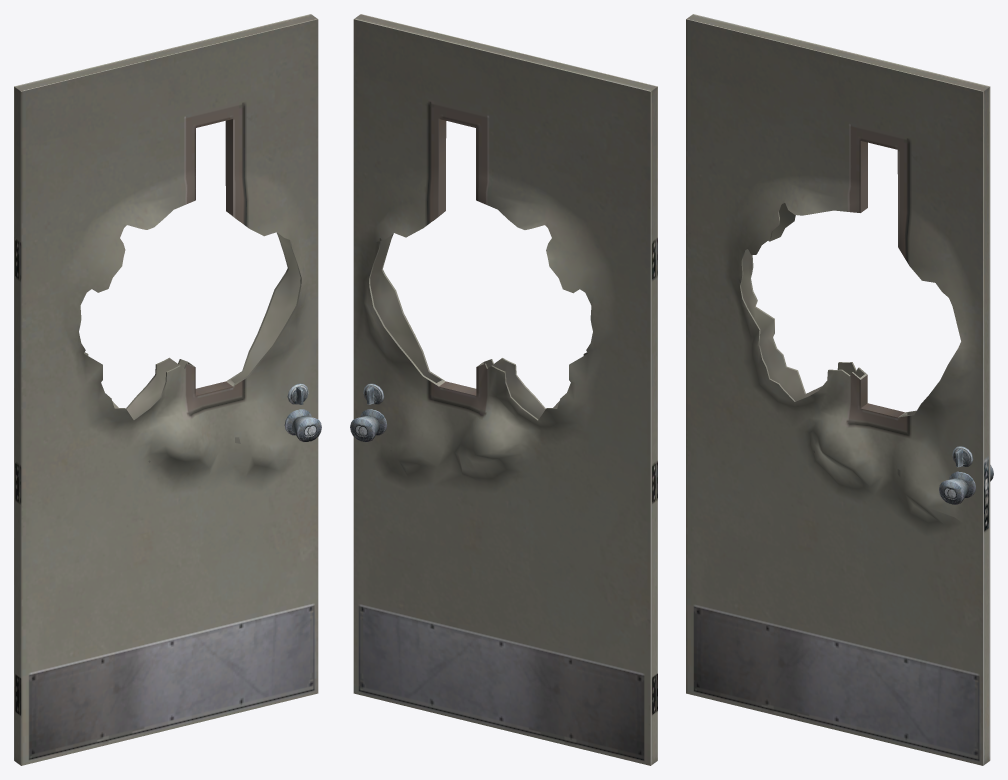
Rendered from doormainmetalwindowsmall01_dm06.glb.
The picture shows the model from 3 angles, left to right: view 1: azimuth 30°, elevation 25°; view 2: azimuth 150°, elevation 25°; view 3: azimuth 330°, elevation 25°; orthographic projection.
Visible parts, largest first — view 1: doormainmetalwindowsmall01_dm06; view 2: doormainmetalwindowsmall01_dm06; view 3: doormainmetalwindowsmall01_dm06.
Part boxes in pixels (bbox=[...]): doormainmetalwindowsmall01_dm06: bbox=[14, 14, 321, 765]; doormainmetalwindowsmall01_dm06: bbox=[350, 14, 657, 765]; doormainmetalwindowsmall01_dm06: bbox=[686, 14, 993, 765].
Bounding box in the file's own units: 0.9133 × 1.98 × 0.172.
Materials: 3 (3 with a texture image).
